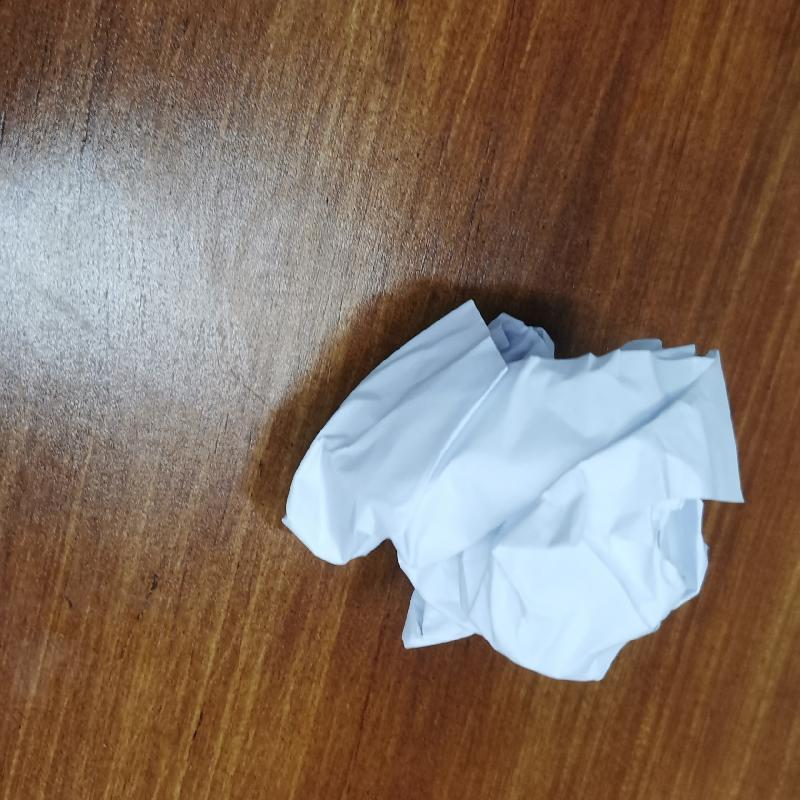spitball: (277, 288, 754, 687)
